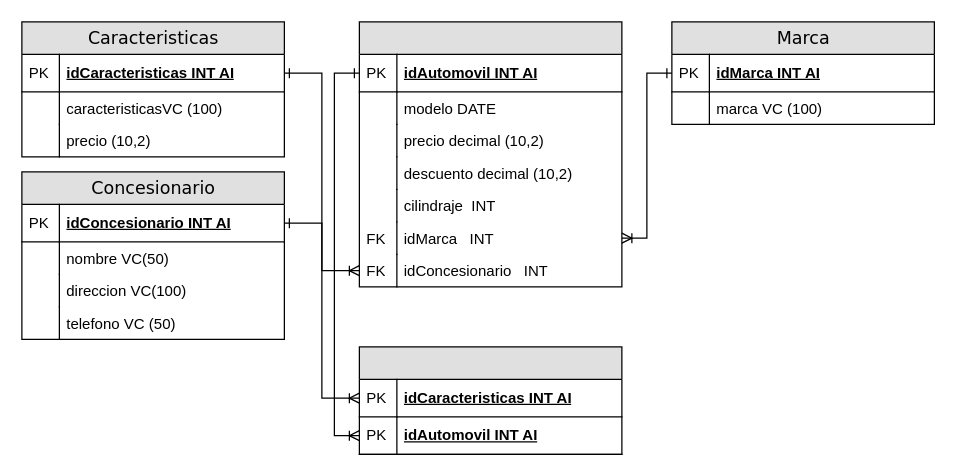
Some shapes in this 956 by 476 pixel diagram are drawn without their labels. Here are the shapes that lost their labels. From the top down, the box of each, then its label:
(358, 21, 622, 287): Automoviles
(358, 346, 622, 454): AutomovilCaracteristica
